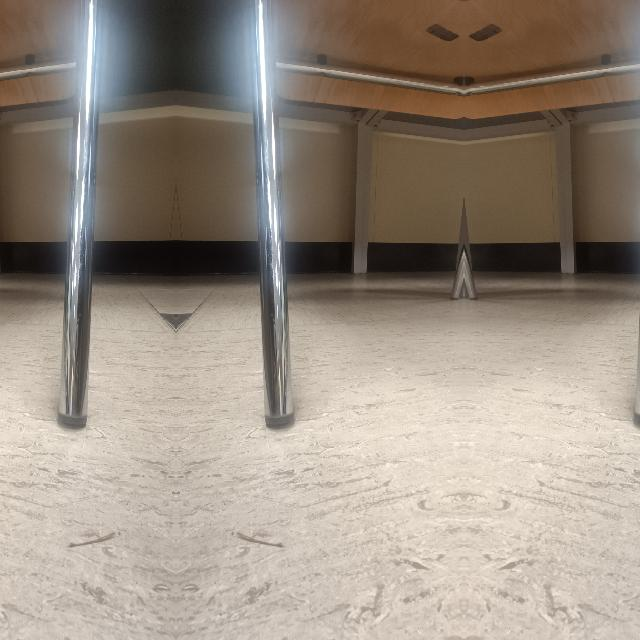obstacle: (247, 216, 320, 434), (31, 216, 104, 434), (607, 216, 640, 434)
